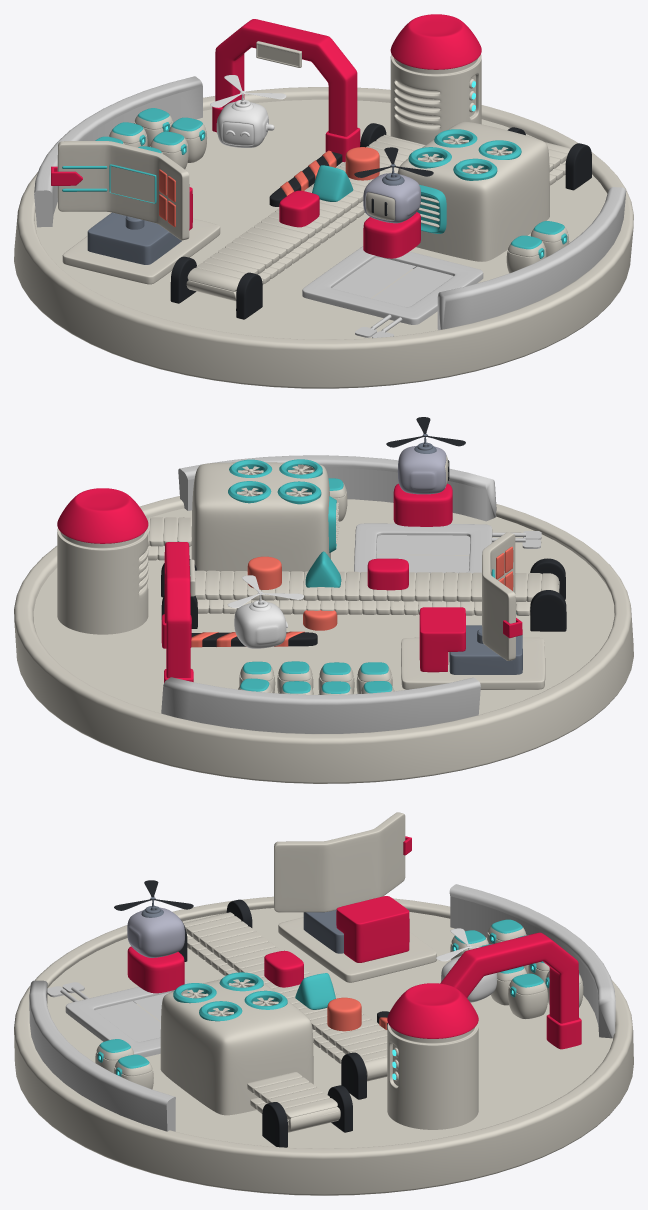
Rendered from bots.glb.
3 views of the same model, one above another, from view 1: azimuth 30°, elevation 25°; view 2: azimuth 150°, elevation 25°; view 3: azimuth 270°, elevation 25° (orthographic).
Parts seen in each view (by area): view 1: Platform, ProductionLine, MetallicObjects, Computer, FloorItems, Boxes, Main_Bot, HoloBot, Screen, Main_Bot_Blade; view 2: Platform, ProductionLine, MetallicObjects, Computer, FloorItems, Boxes, Main_Bot, HoloBot, StartingShape, HoloBlade, Main_Bot_Blade; view 3: Platform, ProductionLine, Computer, MetallicObjects, FloorItems, Boxes, Main_Bot, HoloBot.
Part boxes in pixels (x1,y1,x2,y2): Platform: (14, 87, 633, 388); ProductionLine: (170, 14, 591, 319); MetallicObjects: (34, 76, 626, 338); Computer: (51, 141, 220, 284); FloorItems: (212, 19, 360, 206); Boxes: (95, 108, 569, 273); Main_Bot: (363, 164, 421, 258); HoloBot: (216, 91, 274, 147); Screen: (110, 166, 154, 202); Main_Bot_Blade: (354, 147, 433, 177); Platform: (14, 496, 633, 783); ProductionLine: (57, 459, 566, 634); MetallicObjects: (161, 455, 541, 733); Computer: (401, 532, 545, 689); FloorItems: (161, 542, 317, 682); Boxes: (238, 478, 394, 694); Main_Bot: (393, 434, 452, 526); HoloBot: (234, 591, 287, 648); StartingShape: (303, 610, 337, 630); HoloBlade: (227, 575, 303, 608); Main_Bot_Blade: (386, 417, 465, 447); Platform: (14, 896, 633, 1195); ProductionLine: (160, 899, 478, 1147); Computer: (274, 812, 436, 982); MetallicObjects: (29, 884, 615, 1131); FloorItems: (377, 932, 581, 1049); Boxes: (95, 919, 583, 1089); Main_Bot: (127, 897, 184, 993); HoloBot: (441, 944, 497, 1002).
Size of the model in its own units: 8.68 by 2.48 by 8.64.
